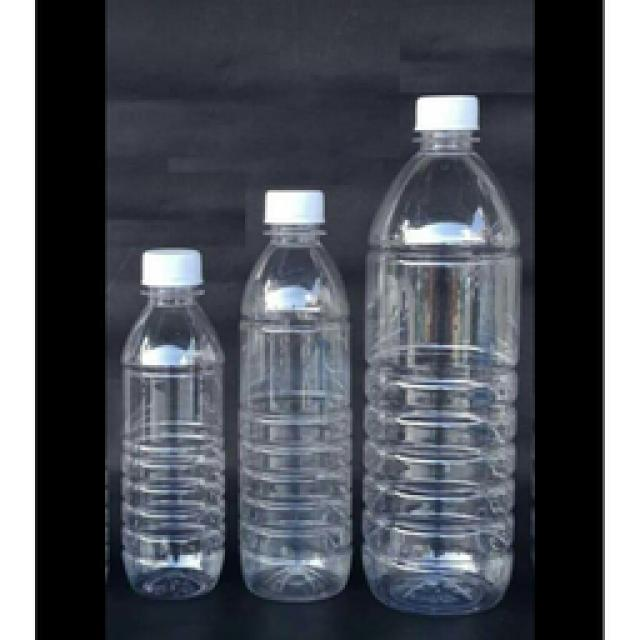plastic_water_bottles: (367, 83, 523, 617), (236, 187, 346, 605), (121, 243, 226, 592)
